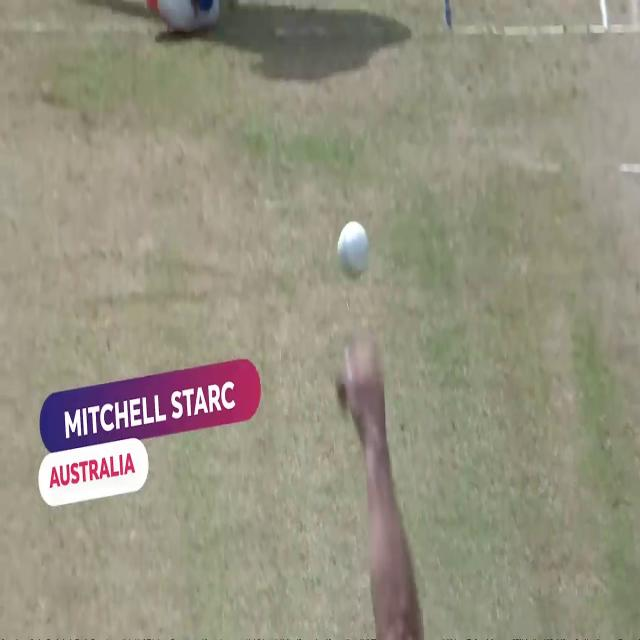ball: (330, 212, 382, 292)
